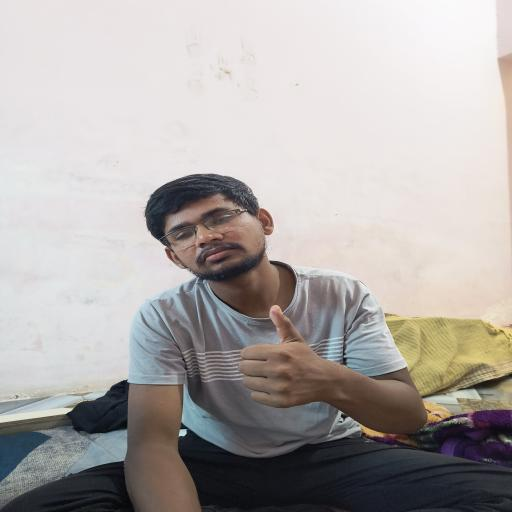Good Morning: (224, 302, 362, 420)
